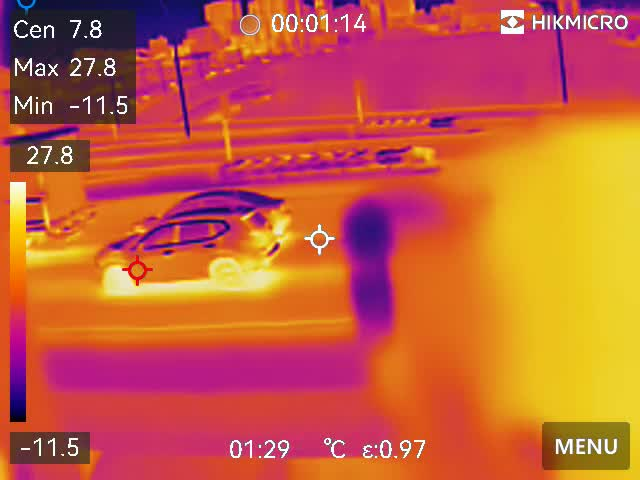largeCar: (103, 212, 288, 277)
smallCar: (125, 187, 302, 220)
